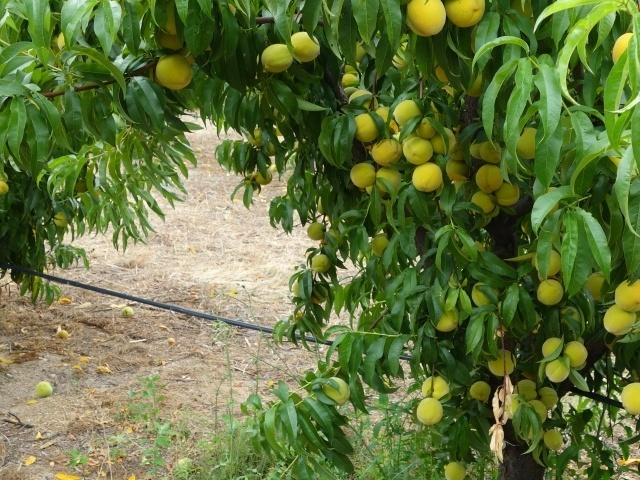peach: (401, 1, 448, 42), (152, 52, 197, 92), (439, 1, 489, 32), (255, 41, 295, 78), (603, 299, 639, 339), (286, 29, 323, 66), (370, 134, 407, 171), (609, 27, 636, 75), (508, 124, 545, 159), (410, 161, 446, 195), (428, 303, 462, 337), (319, 373, 353, 407), (348, 110, 381, 145), (399, 134, 434, 166), (419, 373, 451, 408), (536, 275, 567, 311), (414, 395, 447, 428), (151, 23, 185, 55), (345, 87, 381, 116), (473, 162, 506, 193), (470, 278, 499, 313), (616, 376, 640, 418), (539, 332, 570, 364), (487, 346, 518, 377), (390, 98, 422, 128), (348, 162, 380, 192), (466, 191, 499, 220), (371, 164, 405, 192), (531, 250, 565, 278), (429, 126, 459, 157), (560, 338, 590, 368), (493, 177, 522, 208), (444, 158, 473, 187), (543, 359, 572, 387), (532, 382, 560, 409), (467, 378, 493, 407), (367, 231, 394, 258), (371, 105, 399, 131), (476, 140, 505, 165), (539, 426, 566, 451), (514, 375, 538, 403), (304, 219, 329, 245), (527, 401, 552, 426), (440, 459, 470, 479), (307, 253, 332, 276)
